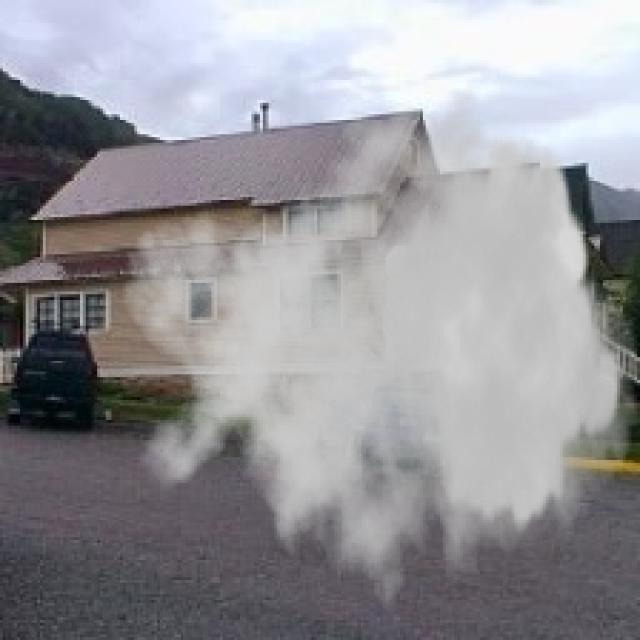smoke: (120, 80, 638, 639)
